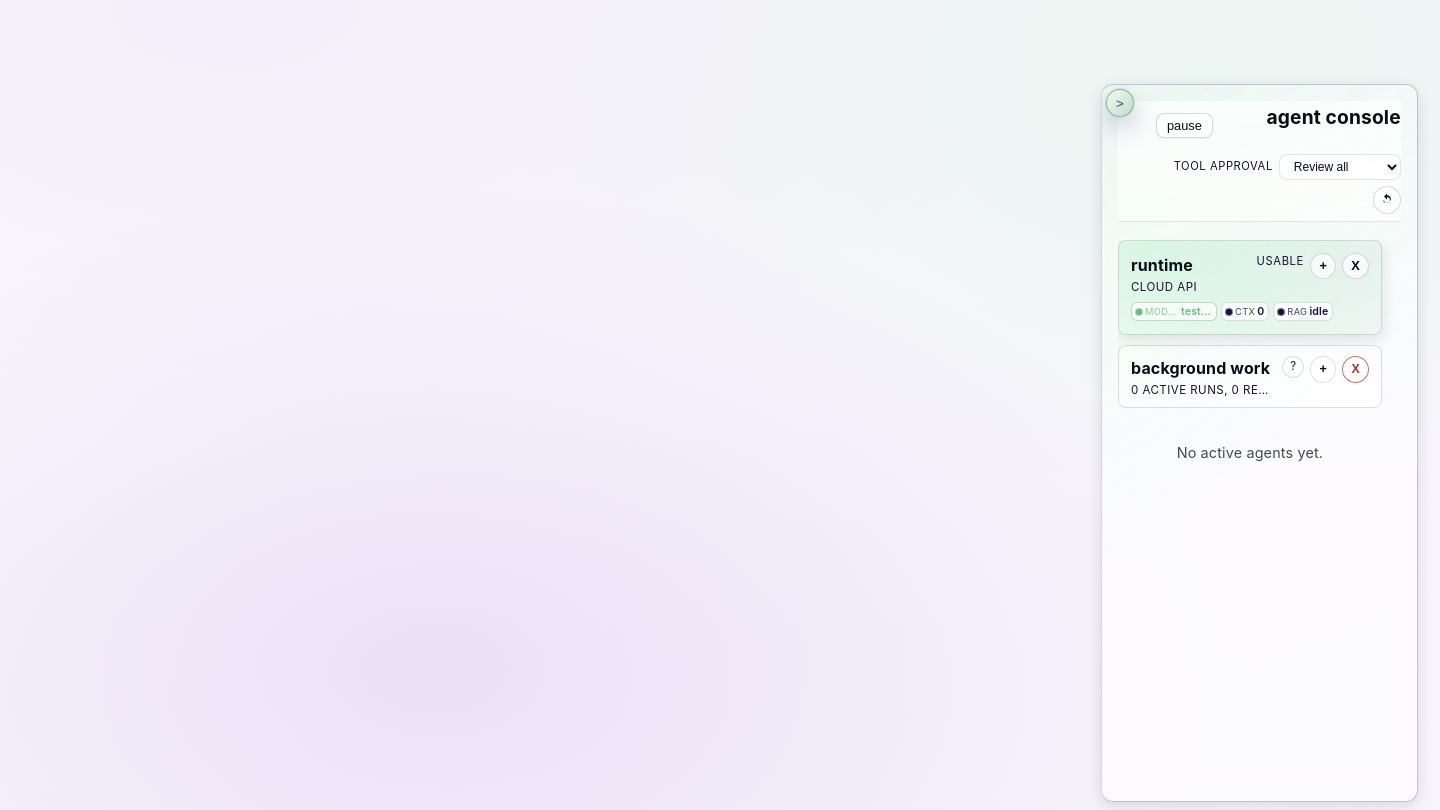
AgentConsole › creates a bounded reflection task from the background panel
Click the button named "expand background" at x=1323, y=369, box [1310,356,1337,383]
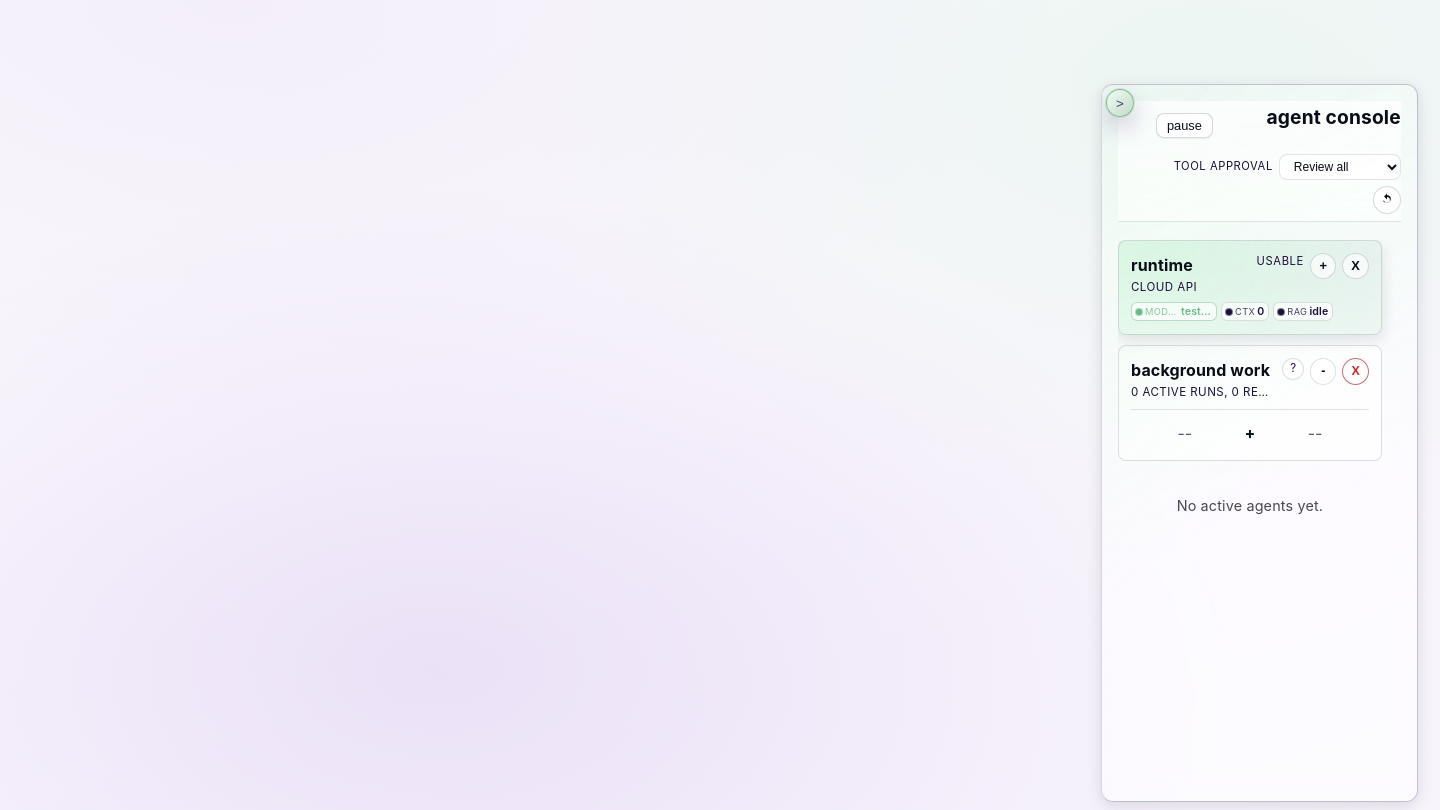
Click the button named "add background work" at x=1250, y=434, box [1131,418,1369,448]
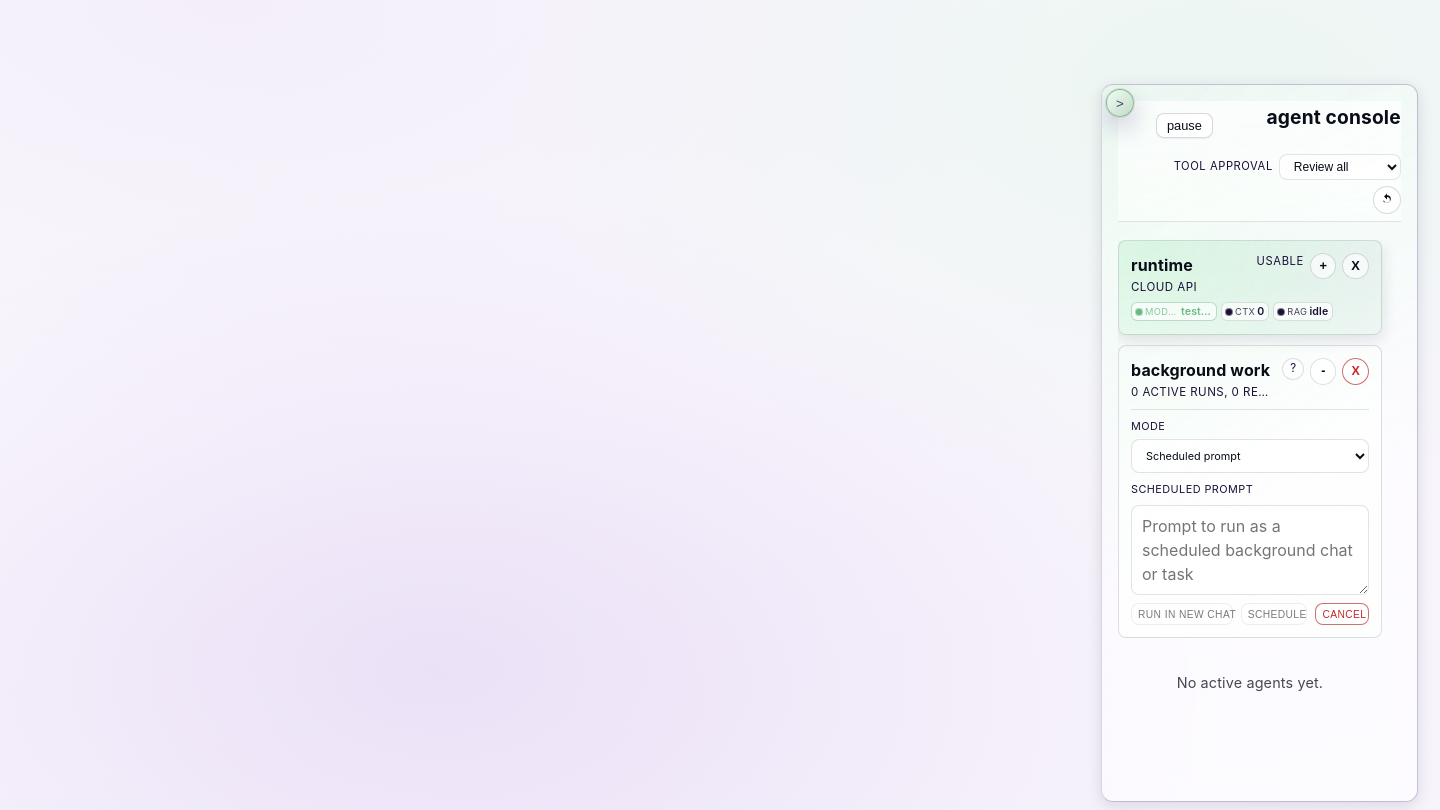
Select "Reflection pass" in the dropdown labelled "Mode" at x=1250, y=456, box [1131,439,1369,473]
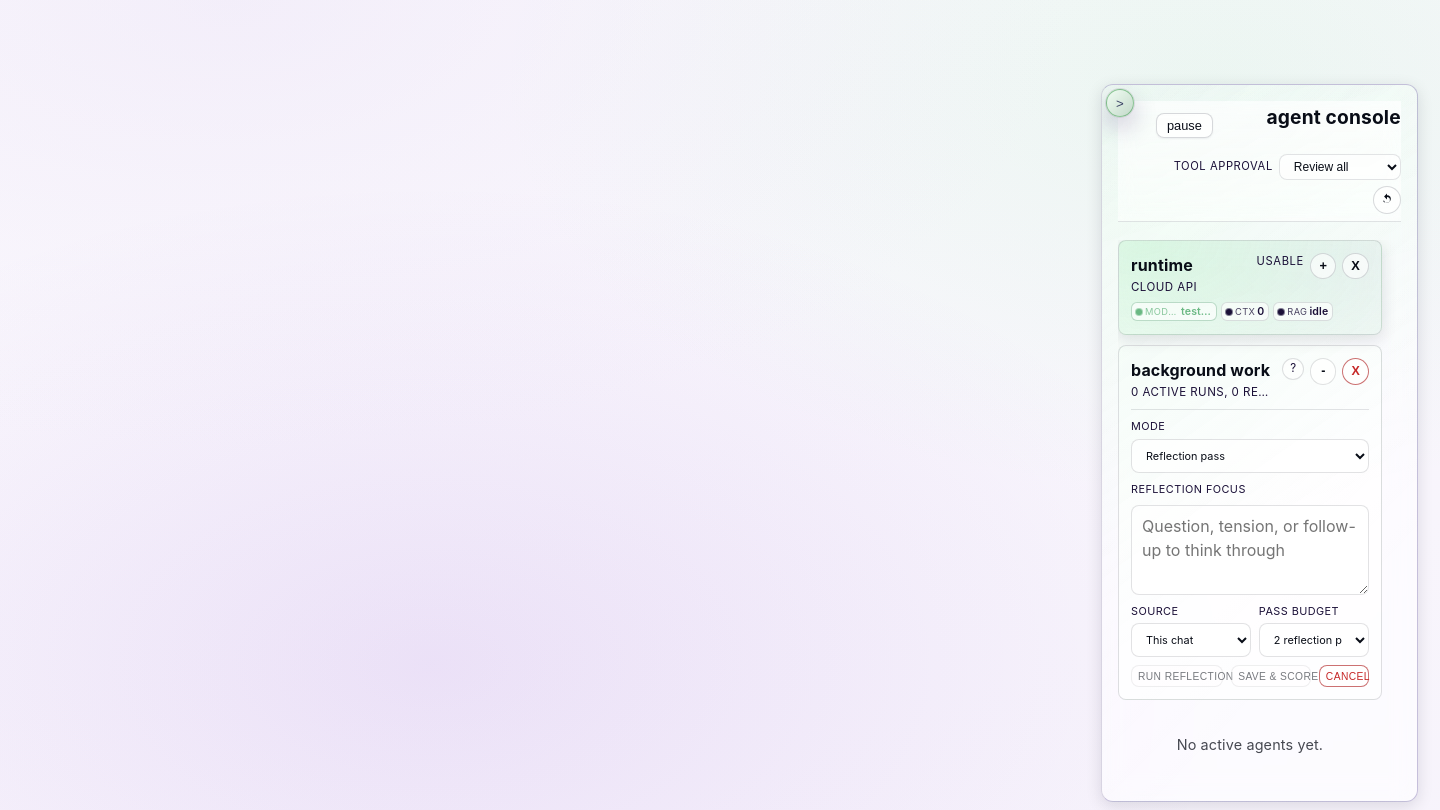
Type "Find one useful follow-up from this thread" into the text box labelled "Reflection focus" at x=1250, y=550, box [1131,505,1369,595]
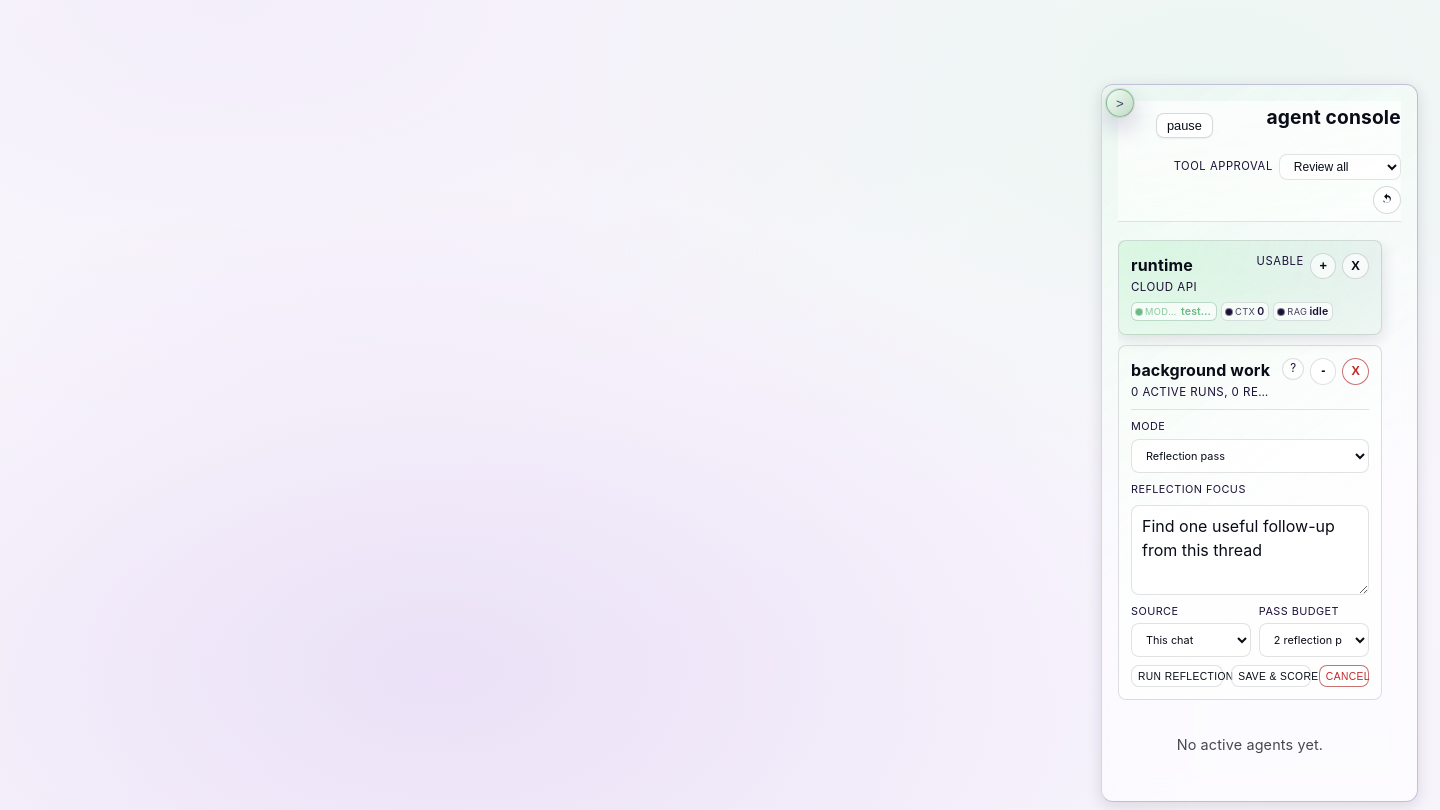
Click the button "Run reflection" at x=1177, y=676, box [1131,665,1223,687]
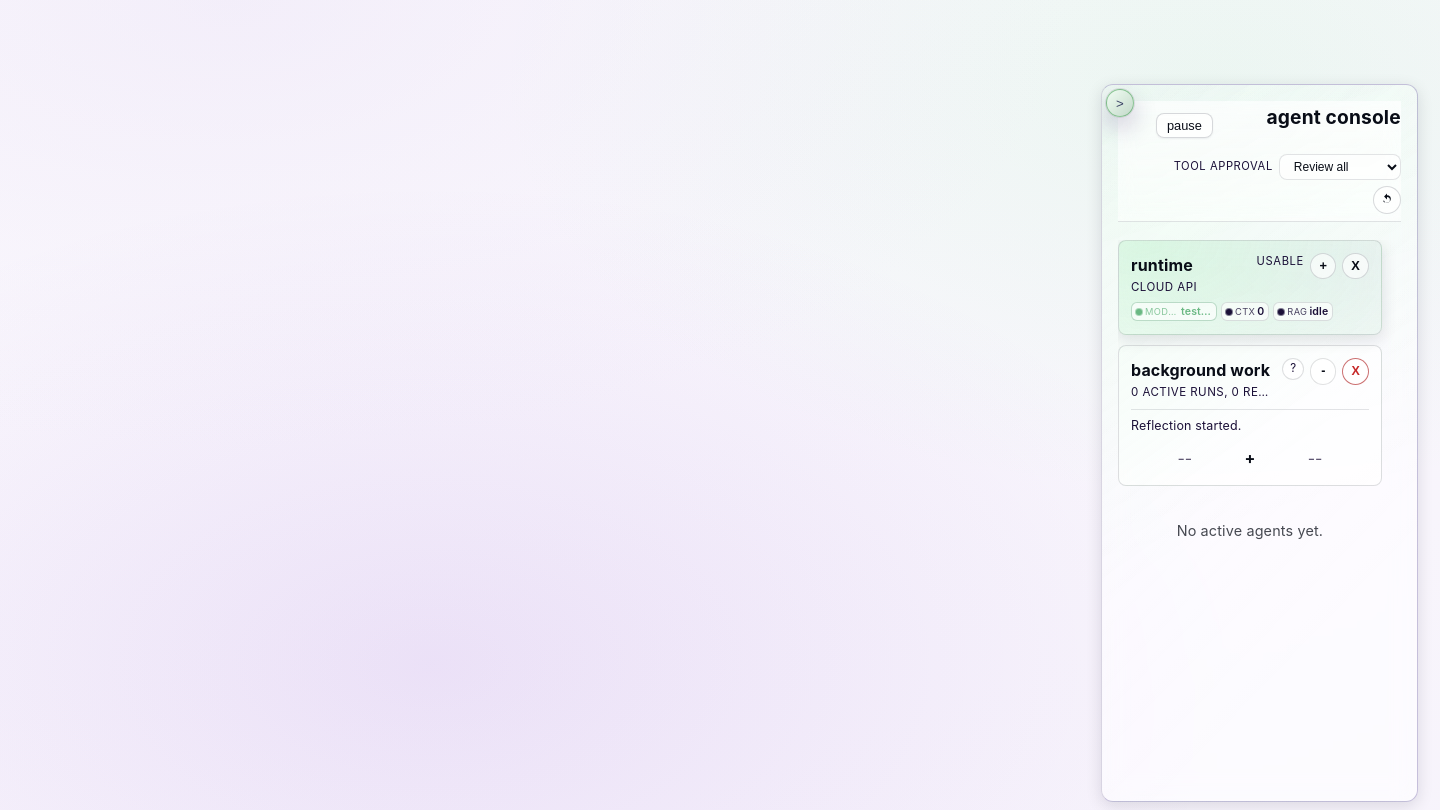
Expected: the text "Reflection started." is shown, [1131,418,1242,434]
